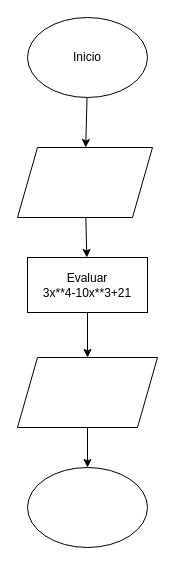
This 175x565 diagram has some shape labels left out. Each missing label, with the centre of its shape:
"Imprimir el resultado" goes at point (87, 392).
"Solicidad numero con decimales" goes at point (84, 182).
